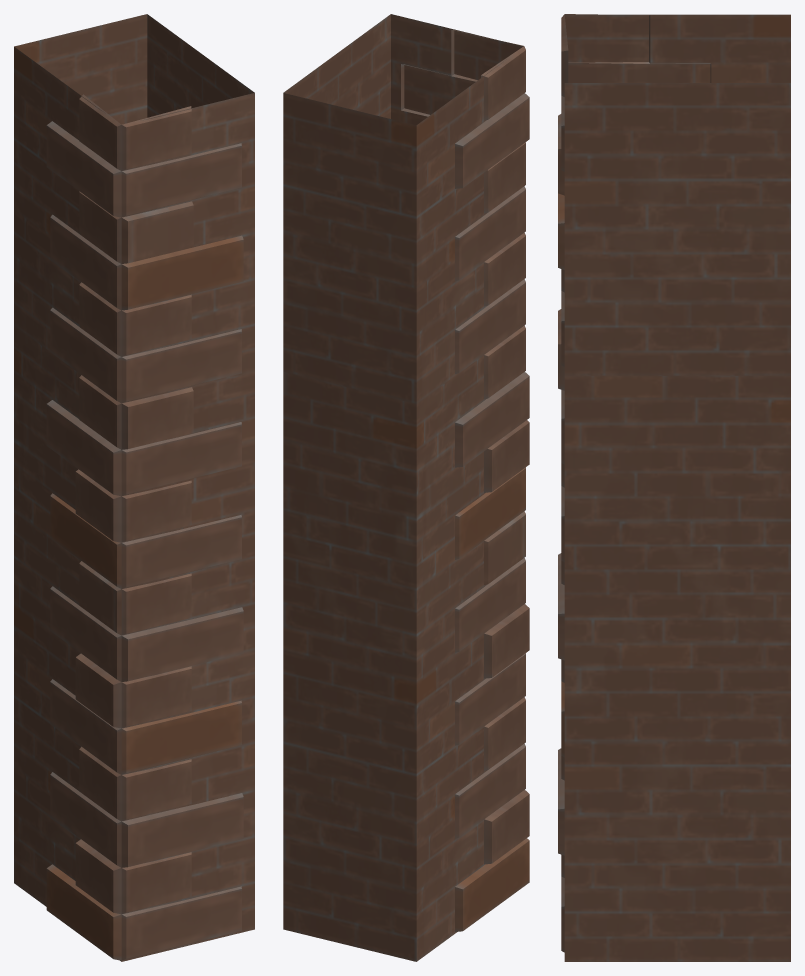
The model's file is brick_column_redbricks.glb.
3 views of the same model, side by side, from view 1: azimuth 30°, elevation 25°; view 2: azimuth 150°, elevation 25°; view 3: azimuth 270°, elevation 25° (orthographic). The views are drawn at different scales.
Visible parts, largest first — view 1: Brick_Column_RedBricks; view 2: Brick_Column_RedBricks; view 3: Brick_Column_RedBricks.
Part boxes in pixels (x1=…): Brick_Column_RedBricks: x1=14, y1=14, x2=254, y2=961; Brick_Column_RedBricks: x1=283, y1=14, x2=529, y2=961; Brick_Column_RedBricks: x1=558, y1=14, x2=790, y2=961.
Size of the model in its own units: 0.5258 by 3 by 0.7202.
1 material, 1 textured.
